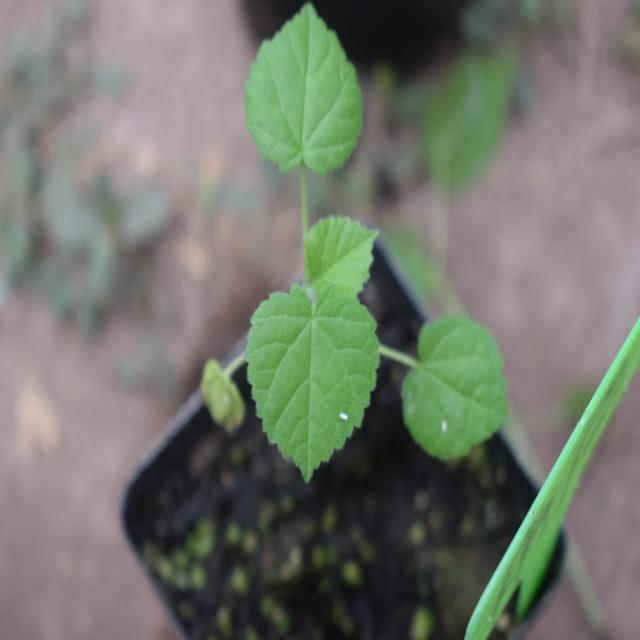abutilon theophrasti: (217, 6, 494, 472)
